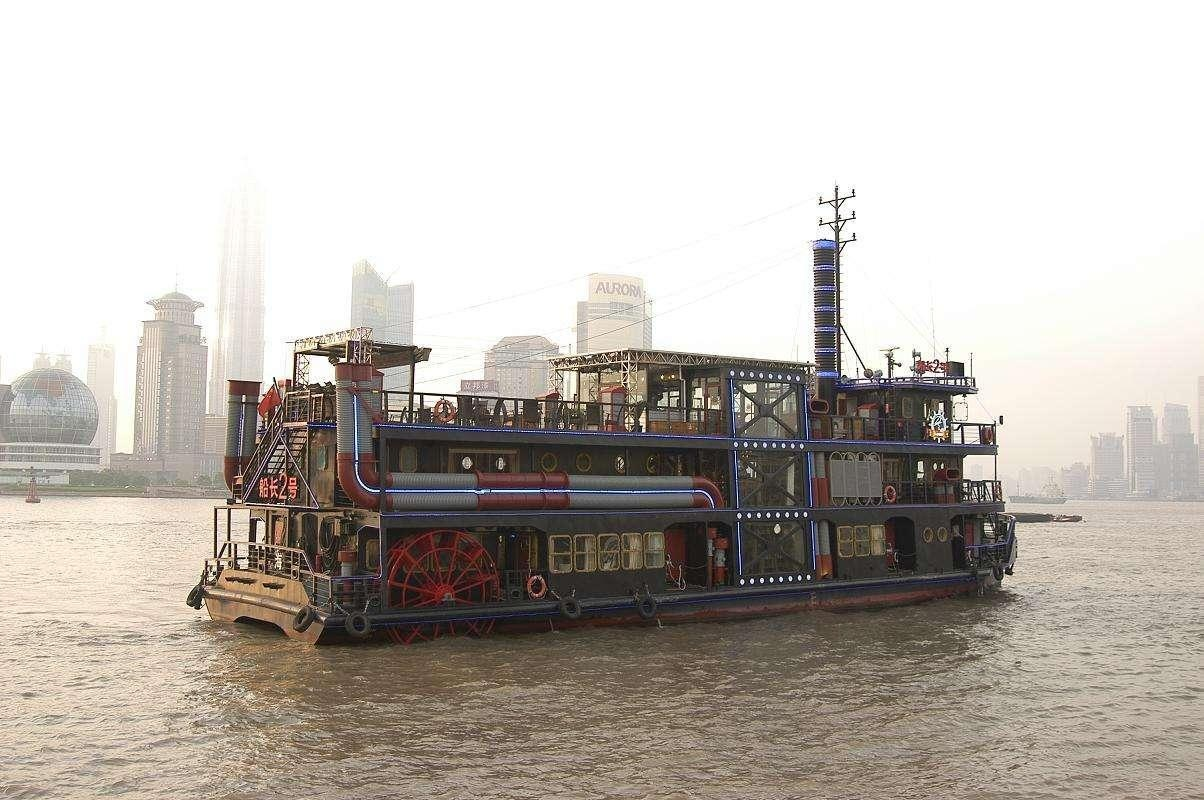otherboat: (178, 173, 1023, 651)
